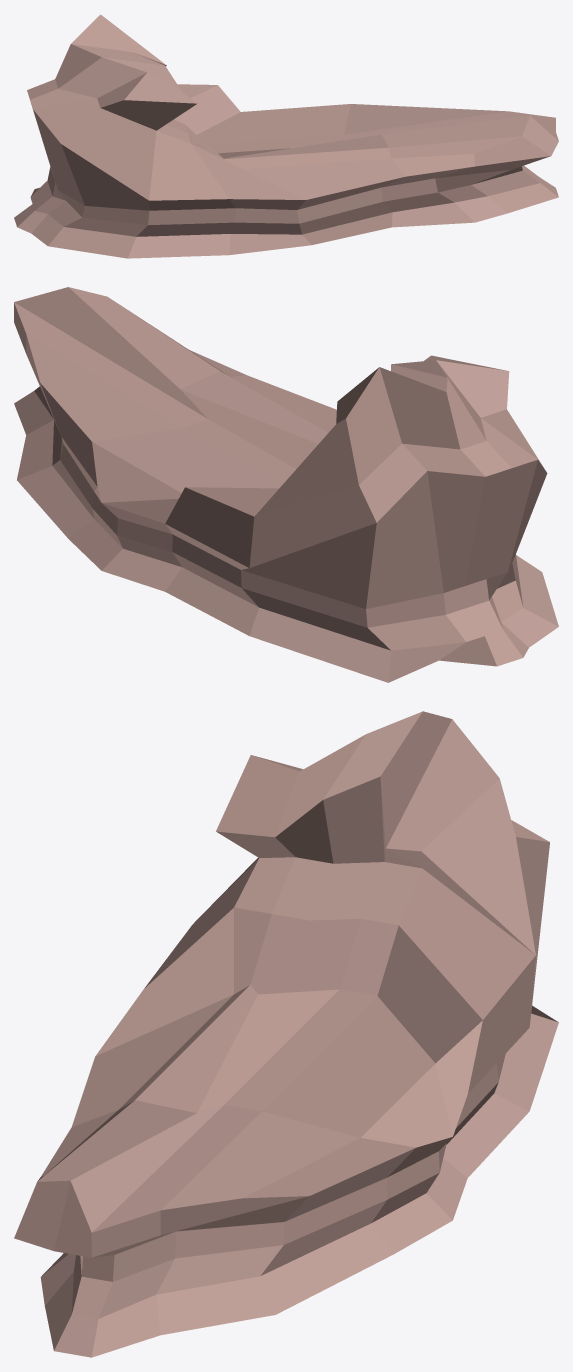
File: Gros_Rochet_02.fbx
3 views of the same model, one above another, from view 1: azimuth 30°, elevation 25°; view 2: azimuth 150°, elevation 25°; view 3: azimuth 270°, elevation 25° (orthographic). The views are drawn at different scales.
Visible parts, largest first — view 1: pCube91; view 2: pCube91; view 3: pCube91.
Part boxes in pixels (x1,y1,x2,y2): pCube91: [14, 14, 558, 258]; pCube91: [14, 287, 558, 682]; pCube91: [14, 711, 558, 1357].
Size of the model in its own units: 1199 by 489 by 713.
